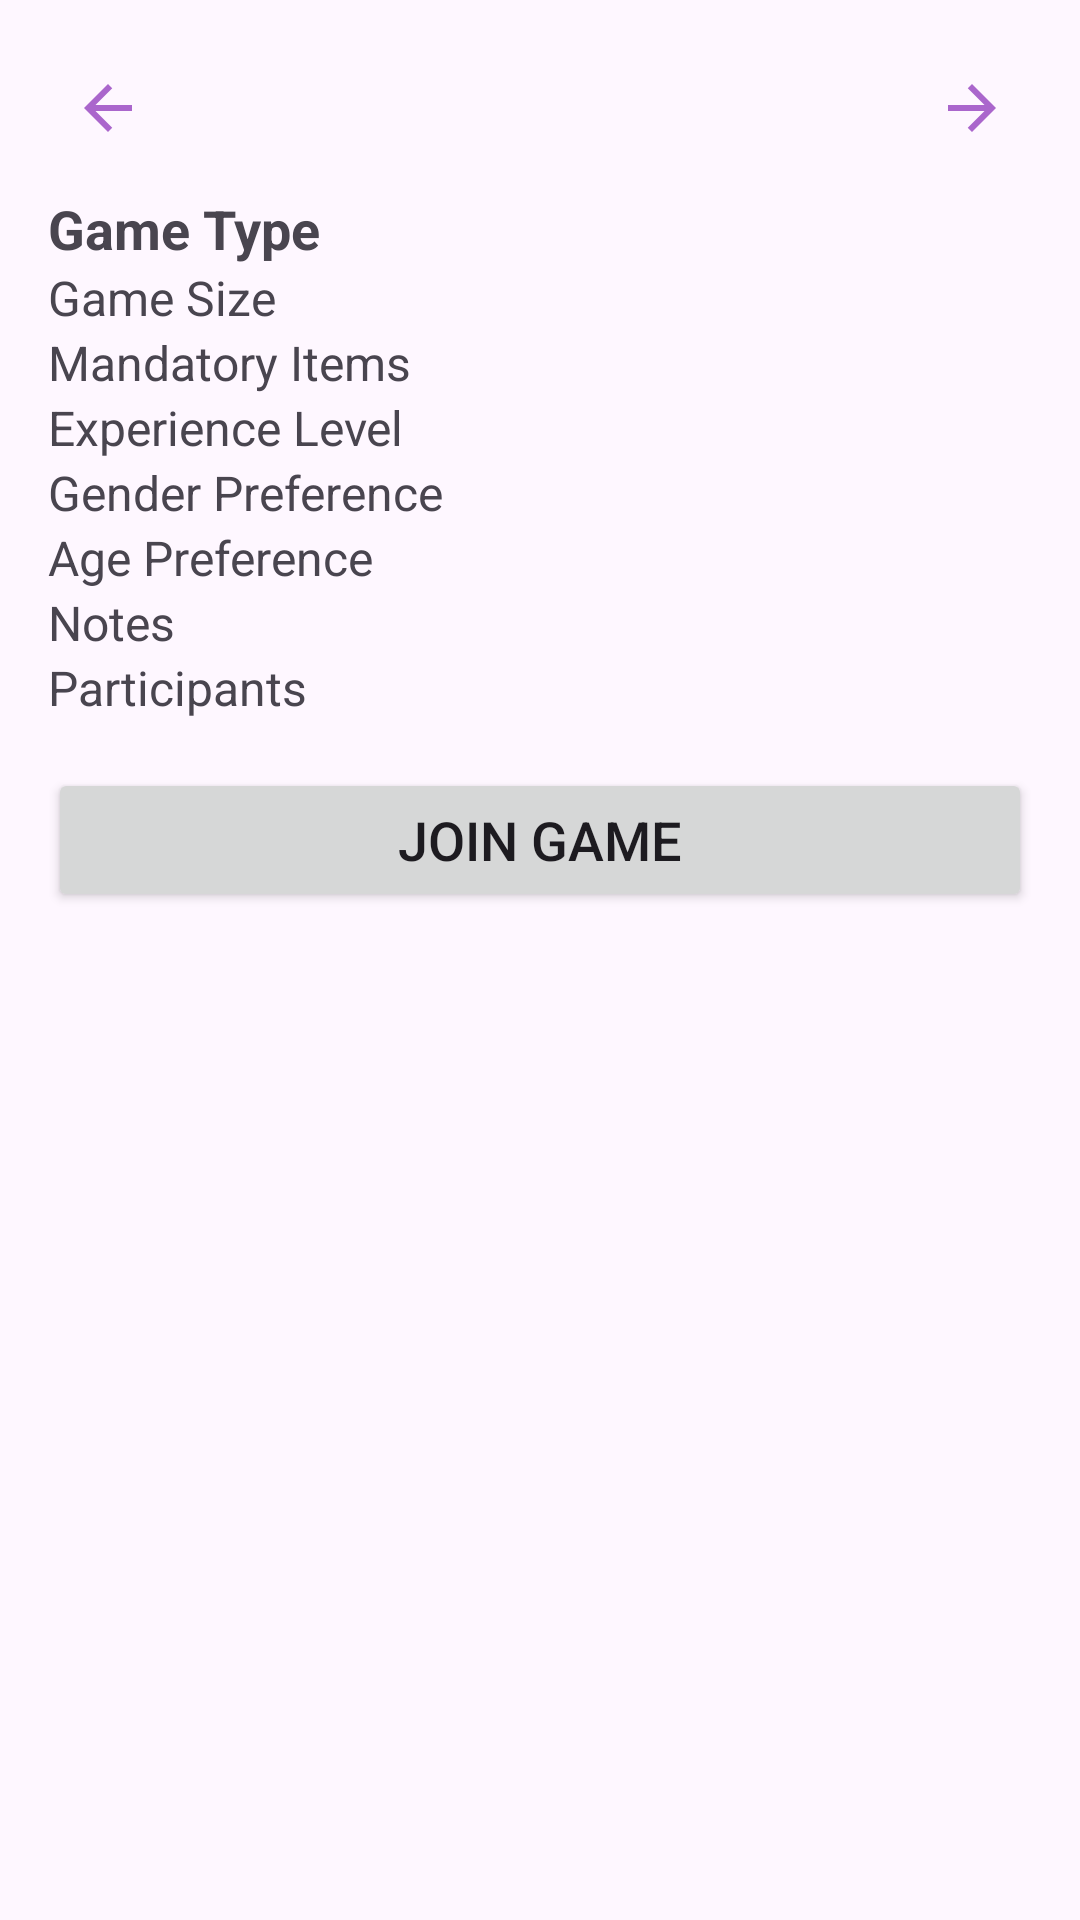

Locate icon controls on the screen. Image size 1080px x 1920px, boxes as [left=x1, top=y1, right=x2, bottom=y2].
Last Game: [left=84, top=84, right=132, bottom=132]
Next Game: [left=948, top=84, right=996, bottom=132]
